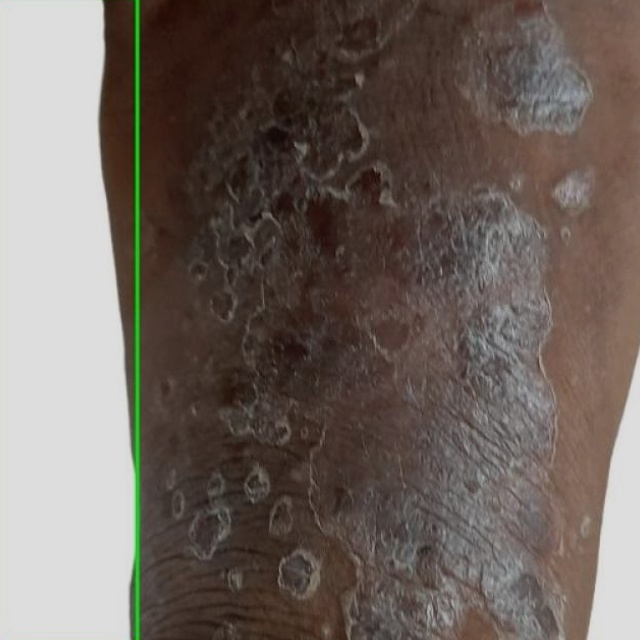Contact Dermatitis: (0, 0, 137, 639)
